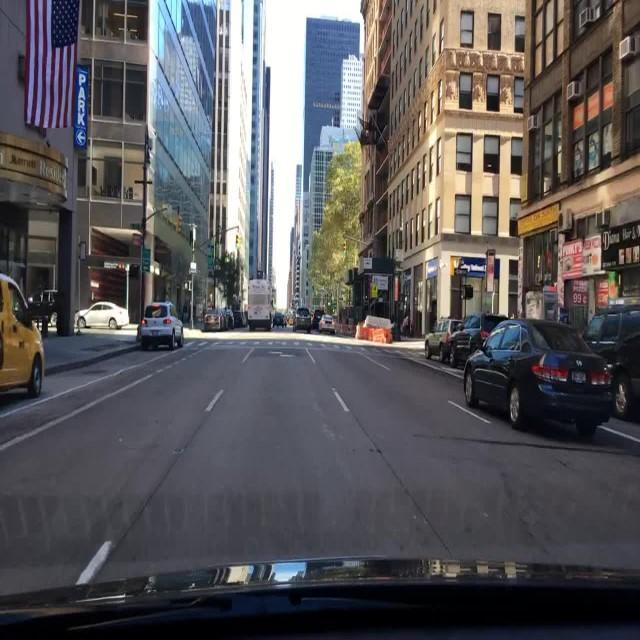normal: (466, 320, 619, 441), (584, 306, 640, 420), (0, 272, 44, 399), (447, 315, 513, 370), (135, 304, 183, 353), (424, 317, 465, 361), (77, 299, 132, 328), (292, 308, 313, 331), (317, 314, 336, 333)
